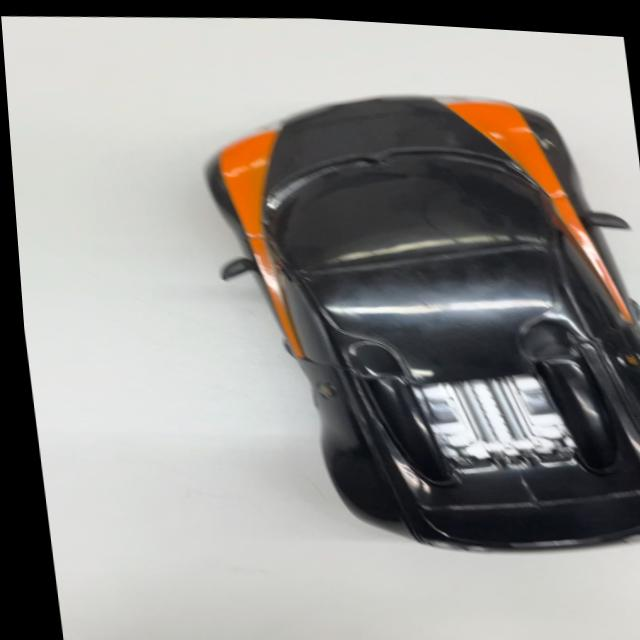vehicle_body: (194, 54, 640, 574)
